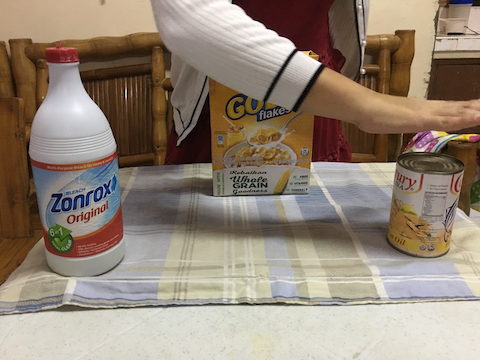bottle: (27, 42, 134, 280)
box: (205, 43, 327, 202)
can: (381, 149, 468, 263)
